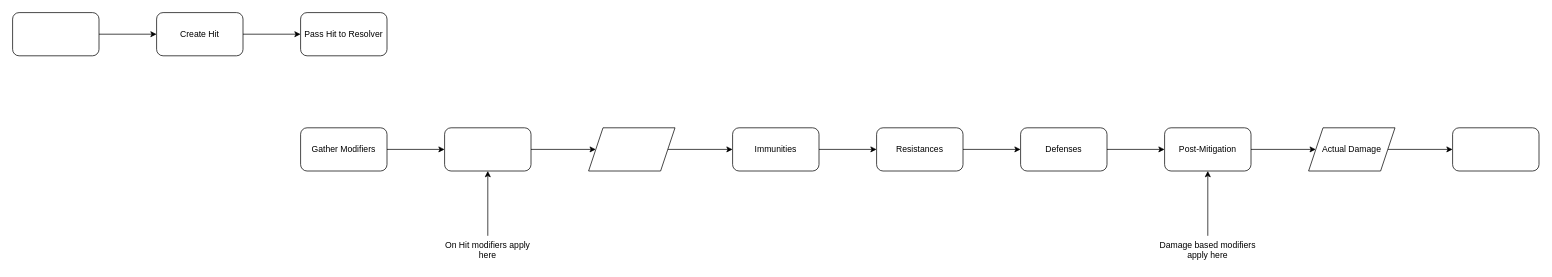
This 1552x277 diagram has some shape labels left out. The box of each missing label's shape, as (x1, y1, x2, y2) in pixels:
Apply Damage: (1452, 127, 1539, 171)
Base Damage: (588, 127, 675, 171)
Collision: (12, 12, 99, 56)
Pre-Mitigation: (444, 127, 531, 171)
